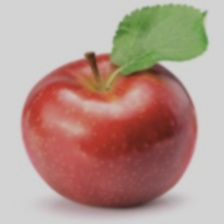apple: (47, 7, 198, 206)
